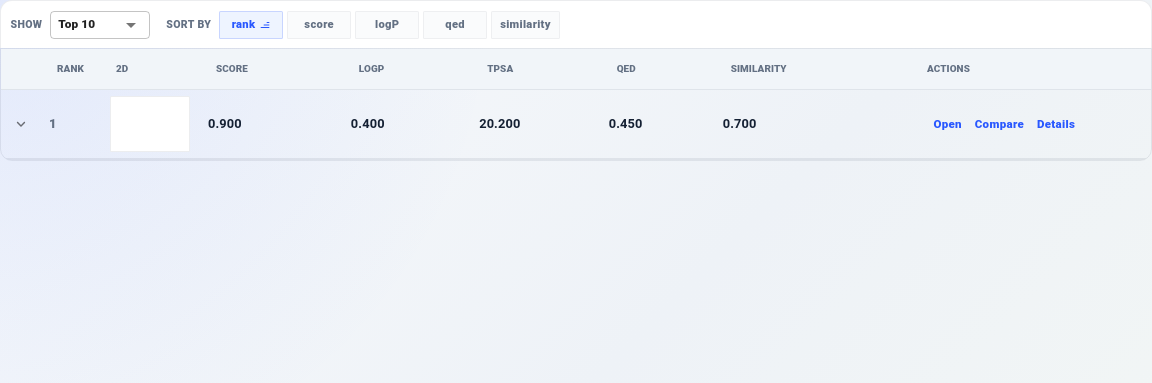
Test case: GeneratedMoleculeTable › renders compact columns and expandable rows
Check: the column heading "Score" is shown, box left=200, top=49, right=343, bottom=90
Check: the column heading "LogP" is shown, box left=343, top=49, right=471, bottom=90
Click the row "1 0.900 0.400 20.200 0.450 0.700 Open Compare Details".
click(576, 125)  # box left=1, top=90, right=1151, bottom=159
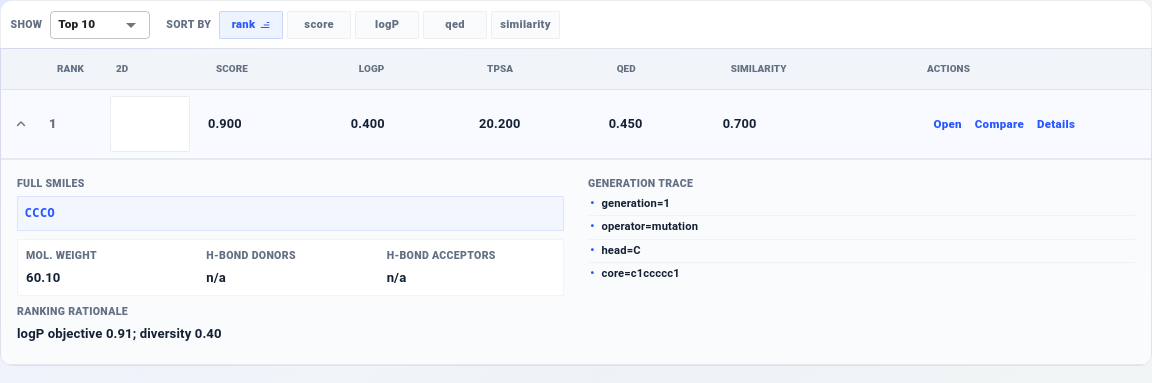
Check: the list item "operator=mutation" is shown, box left=588, top=219, right=1135, bottom=240
Check: the text "Full SMILES" is shown, box left=17, top=177, right=85, bottom=190
